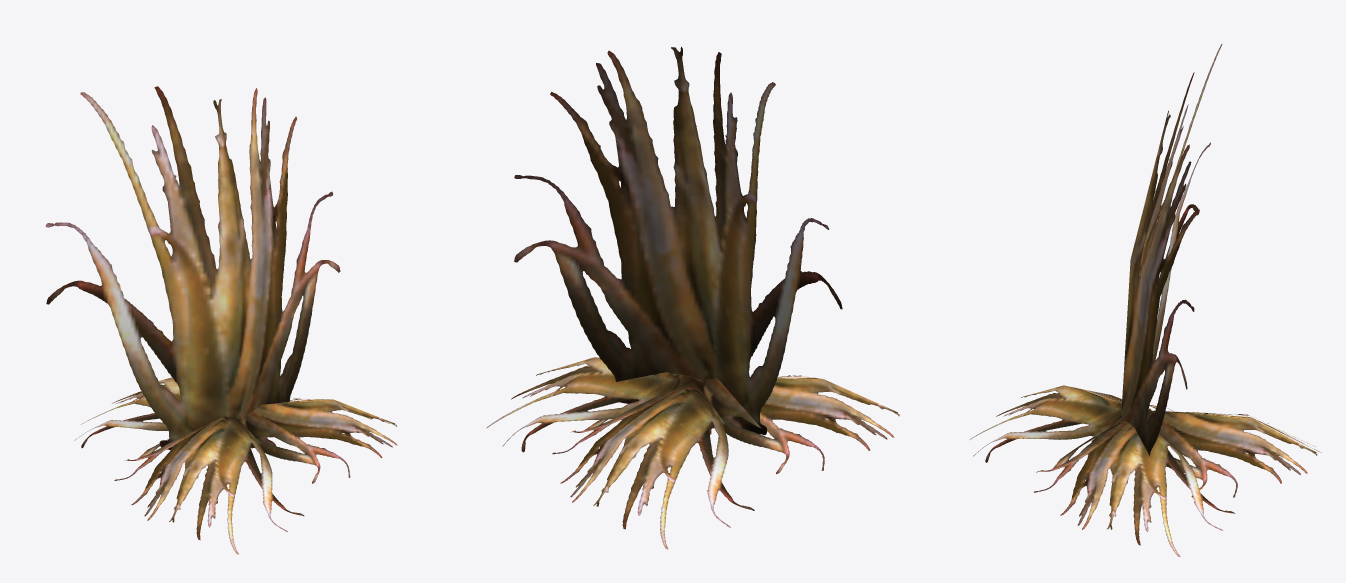
The picture shows the model from 3 angles, left to right: view 1: azimuth 30°, elevation 25°; view 2: azimuth 150°, elevation 25°; view 3: azimuth 270°, elevation 25°; orthographic projection. The views are drawn at different scales.
Visible parts, largest first — view 1: t6; view 2: t6; view 3: t6.
Boxes of the visible parts, x1=… form: t6: x1=45, y1=86, x2=397, y2=554; t6: x1=486, y1=47, x2=899, y2=549; t6: x1=970, y1=44, x2=1321, y2=556.
Bounding box in the file's own units: 412 × 487 × 421.
